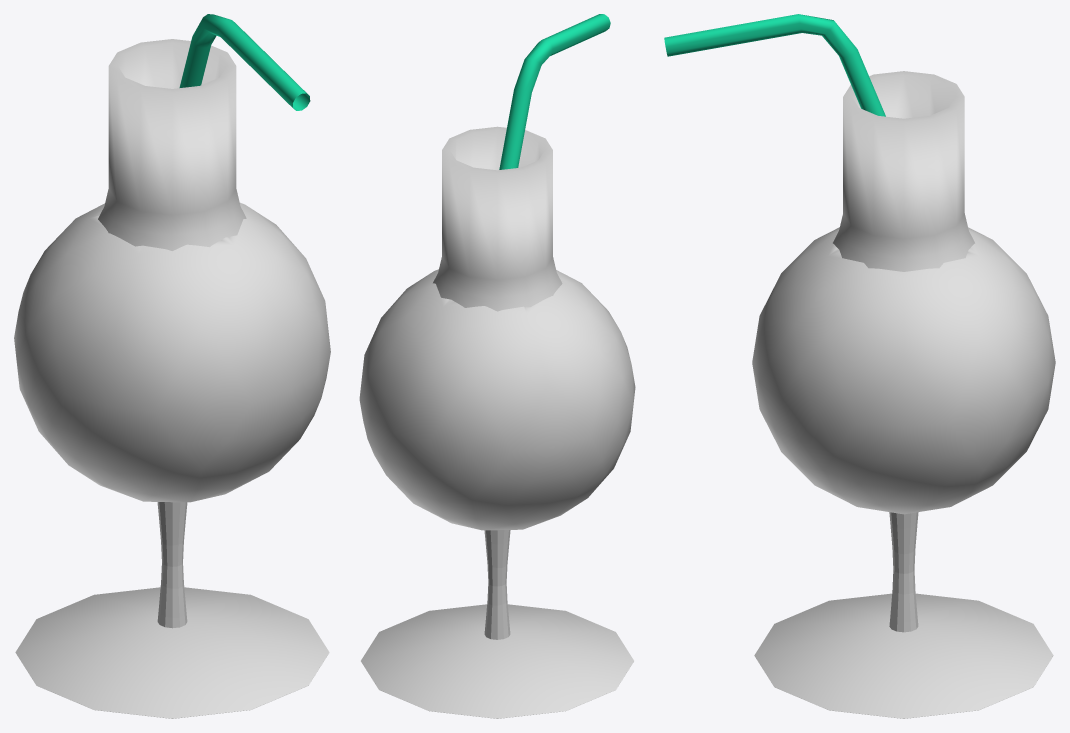
File: wineglass.fbx
The picture shows the model from 3 angles, left to right: view 1: azimuth 30°, elevation 25°; view 2: azimuth 150°, elevation 25°; view 3: azimuth 270°, elevation 25°; orthographic projection. The views are drawn at different scales.
Parts seen in each view (by area): view 1: Cylinder.002, Cylinder; view 2: Cylinder.002, Cylinder; view 3: Cylinder.002, Cylinder.
Part boxes in pixels (<box>): Cylinder.002: <box>14,39,330,718</box>; Cylinder: <box>179,14,310,110</box>; Cylinder.002: <box>359,126,635,718</box>; Cylinder: <box>499,14,610,169</box>; Cylinder.002: <box>752,71,1055,718</box>; Cylinder: <box>664,14,885,116</box>.
Size of the model in its own units: 166 by 388 by 215.
